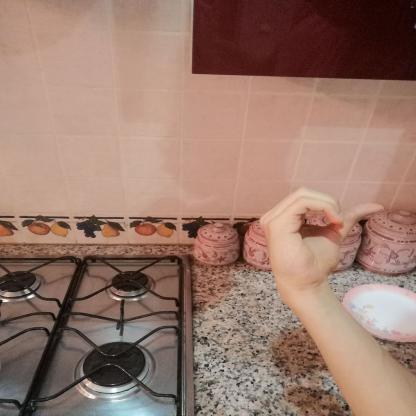WAW: (246, 180, 397, 301)
